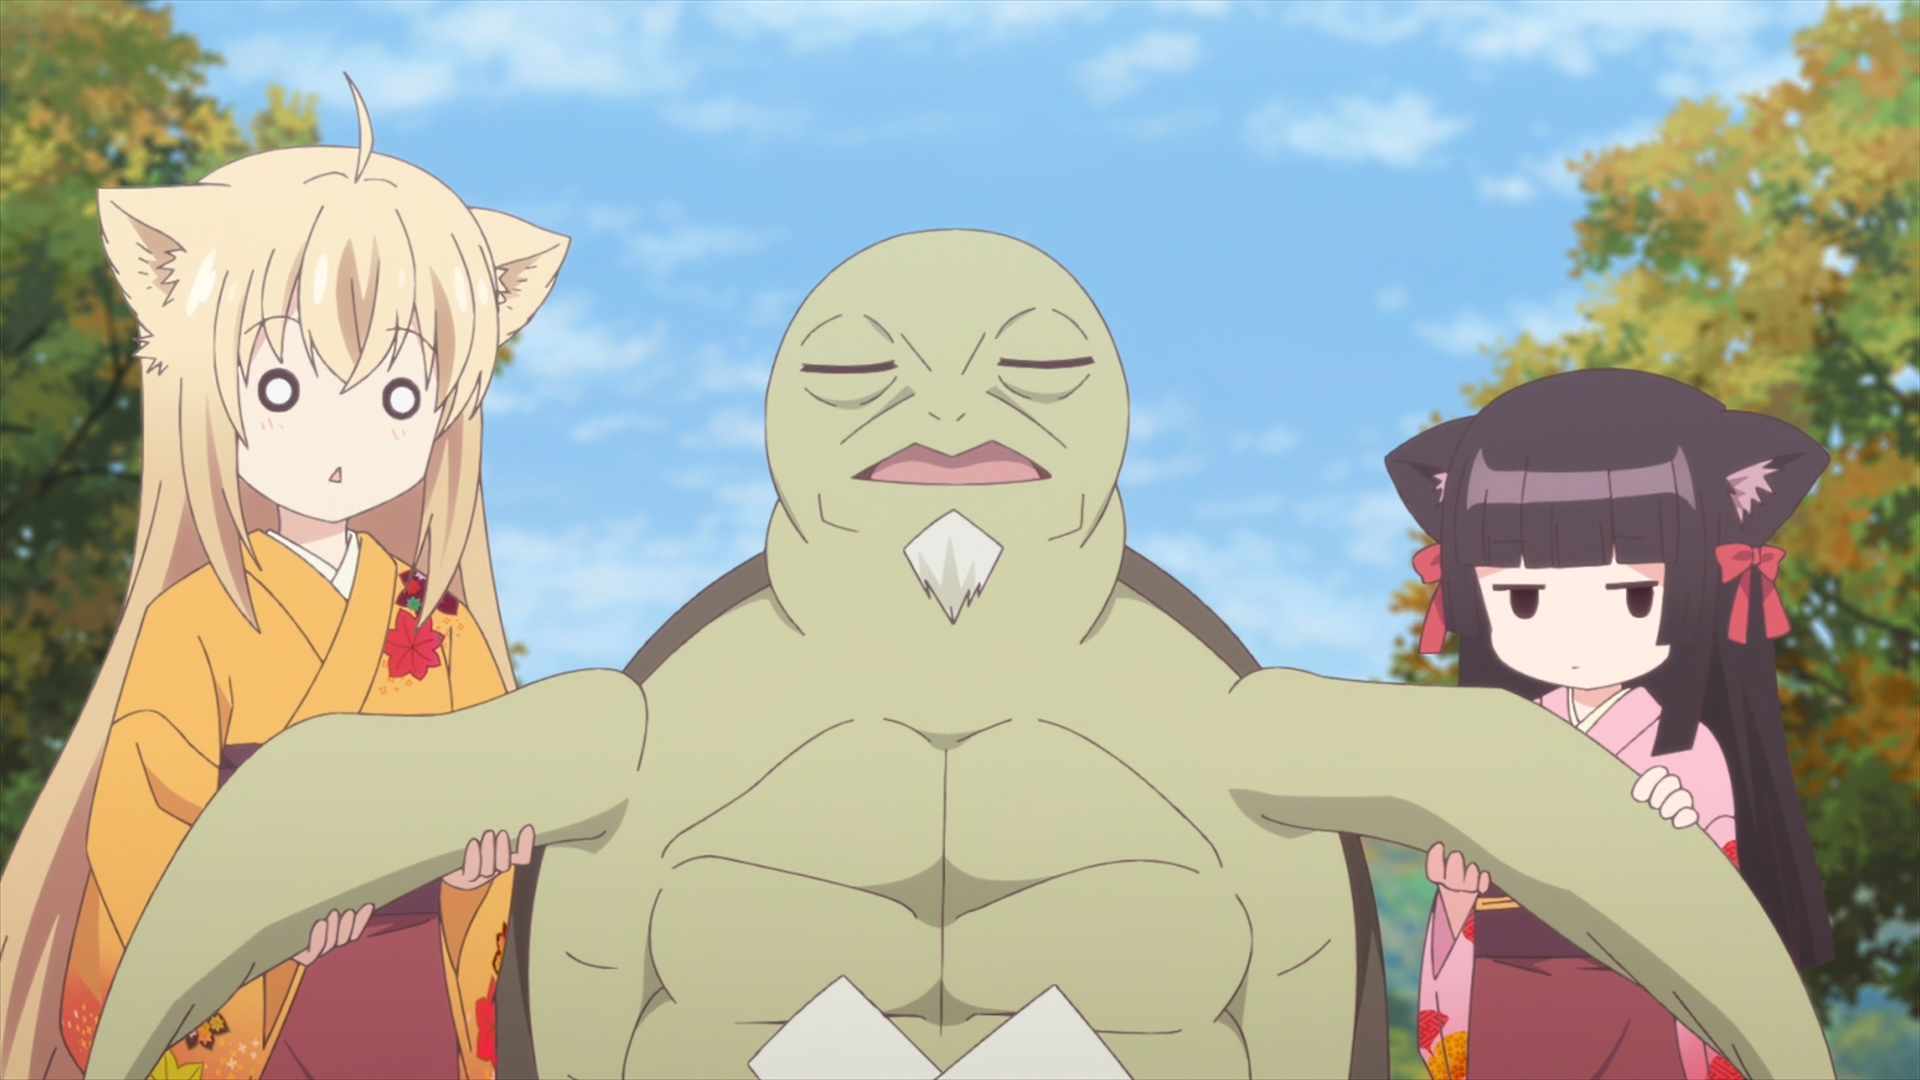其他: (86, 229, 1836, 1080)
柚: (1, 74, 572, 1080)
樱: (1383, 368, 1836, 1080)
